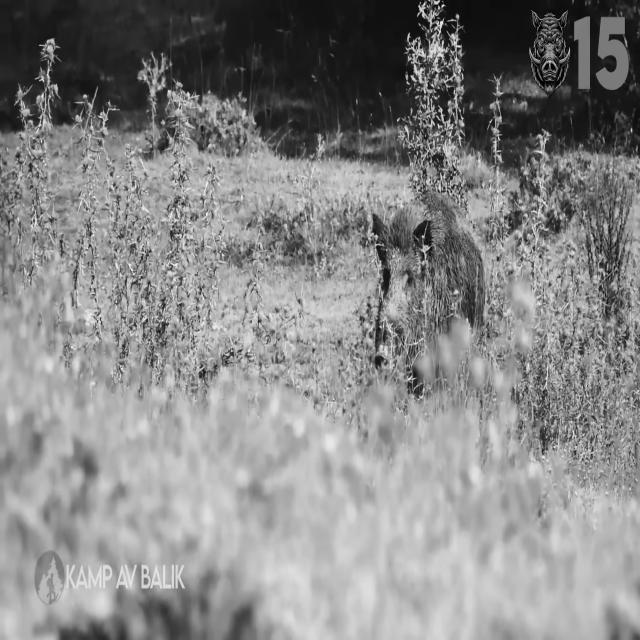boar: (373, 191, 484, 364)
